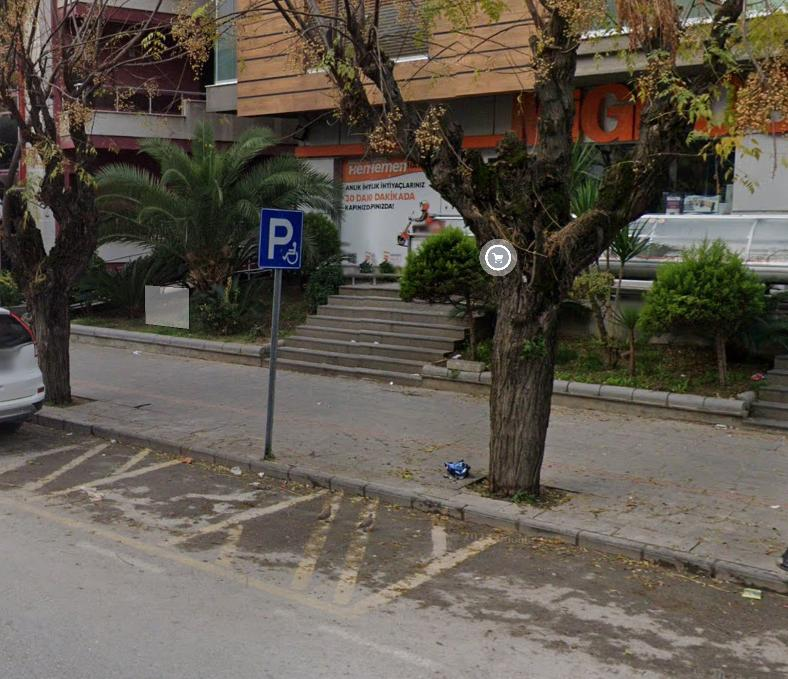disabledpark: (260, 208, 301, 268)
